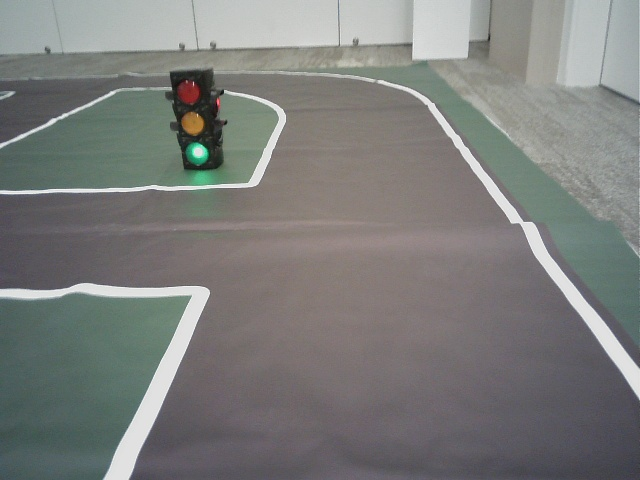green: (172, 74, 213, 165)
